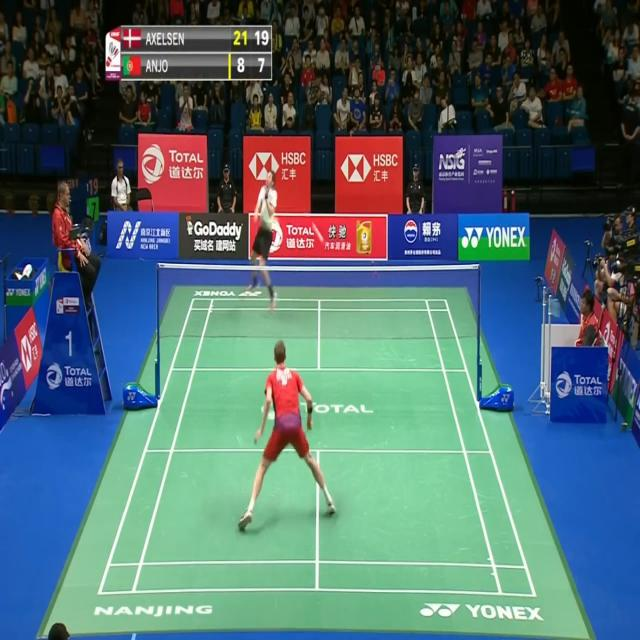Player1: (234, 335, 339, 540)
Player2: (245, 161, 285, 322)
